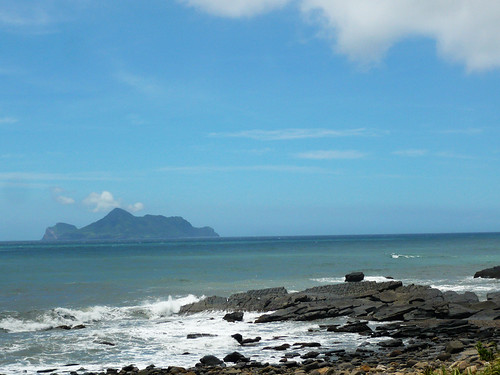turtleIslandLeft: (35, 209, 219, 237)
